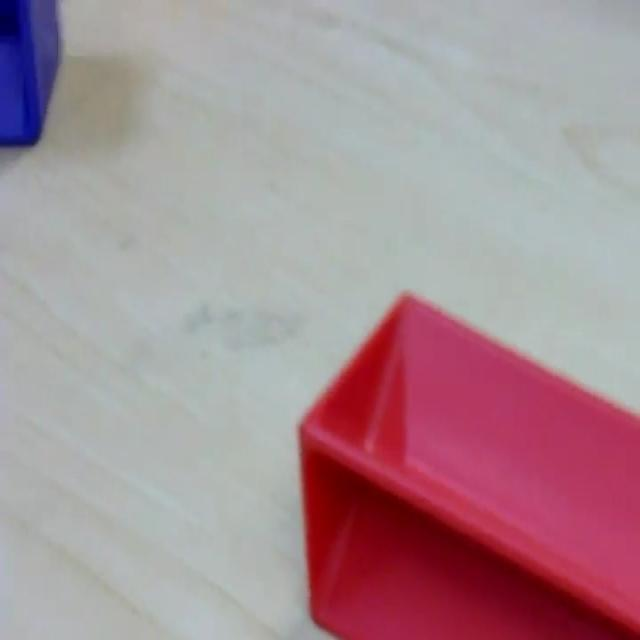red_block: (296, 287, 638, 637)
